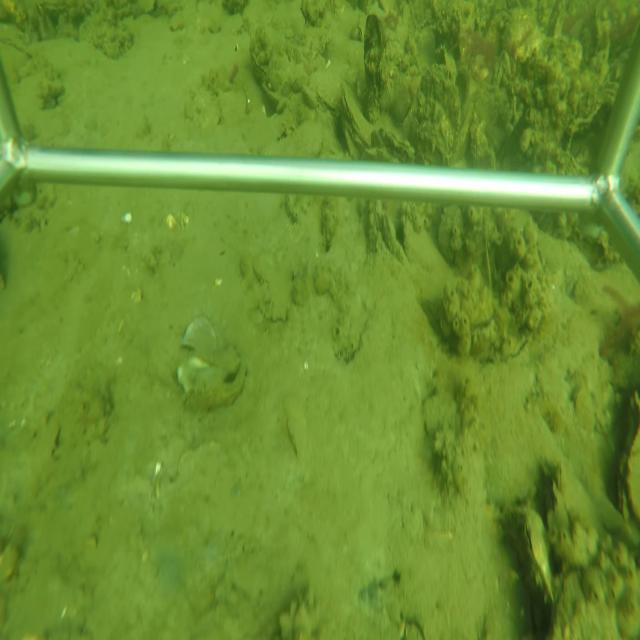Oyster-Closed: (513, 502, 556, 604), (401, 210, 450, 271), (339, 81, 376, 146), (450, 92, 474, 168), (382, 210, 410, 270), (381, 128, 417, 163), (248, 39, 270, 86), (314, 84, 339, 114), (285, 195, 299, 227)
Oyster-Open: (178, 357, 248, 416)
